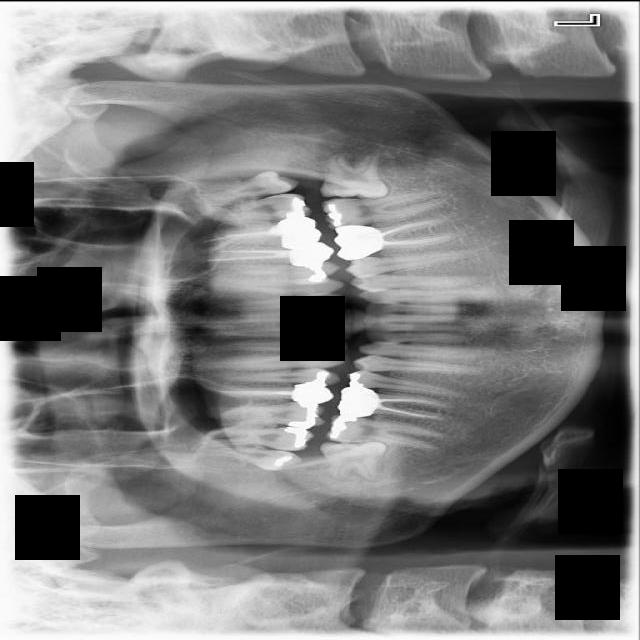3M ESPE Implant: (199, 444, 302, 472)
52: (321, 189, 372, 234), (275, 210, 325, 252), (332, 220, 381, 262), (335, 381, 382, 424), (324, 411, 376, 448), (285, 236, 337, 267), (265, 192, 312, 221), (280, 400, 326, 429), (289, 259, 342, 283), (267, 425, 314, 451), (252, 448, 302, 471), (287, 382, 335, 405), (300, 365, 342, 387), (346, 369, 382, 388)
73: (370, 214, 459, 252), (194, 220, 282, 252), (373, 391, 454, 421), (197, 243, 291, 264), (207, 384, 296, 400), (538, 39, 546, 42)
BioHorizons Implant: (179, 190, 313, 229)
BioLife Implant: (192, 166, 301, 205)
Biomet 3i Implant: (320, 151, 388, 199)
Blue Sky Bio Implant: (320, 189, 444, 231)
Caries: (196, 423, 314, 451)
Implant: (324, 411, 444, 452)
Keystone Dental Implant: (319, 439, 387, 480)
